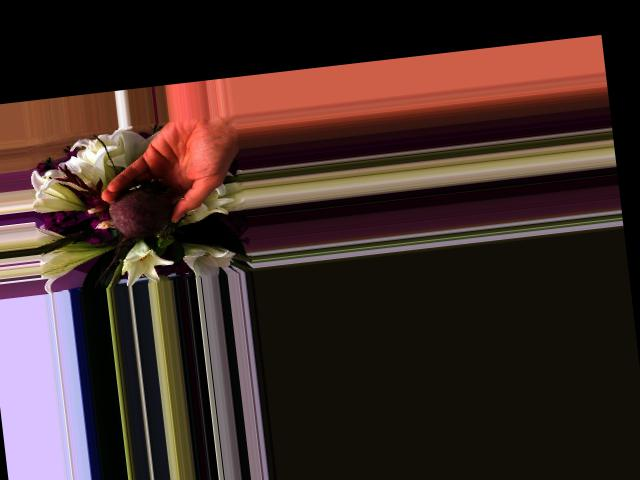beet: (82, 177, 180, 286)
